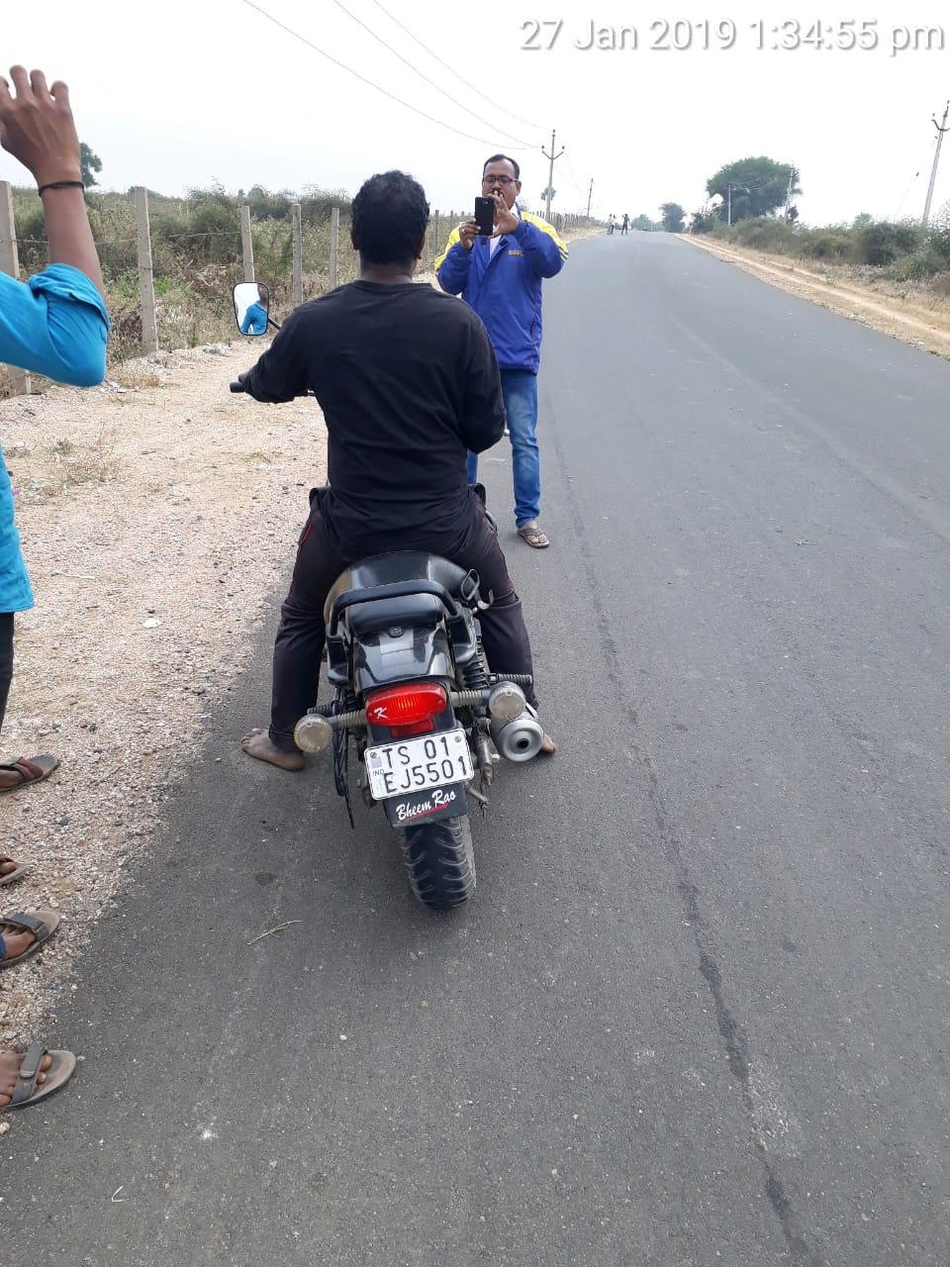plate: (348, 722, 492, 788)
